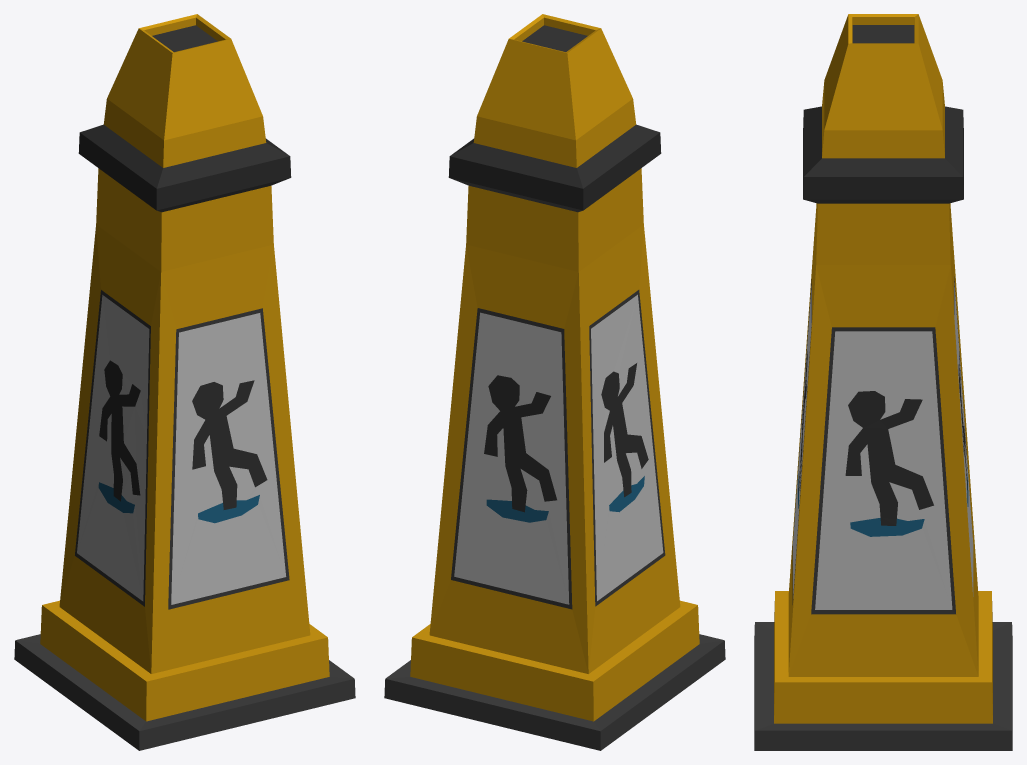
File: Wet Floor Sign Cone.fbx
3 views of the same model, side by side, from view 1: azimuth 30°, elevation 25°; view 2: azimuth 150°, elevation 25°; view 3: azimuth 270°, elevation 25° (orthographic). The views are drawn at different scales.
Parts seen in each view (by area): view 1: Wet Floor Sign Cone; view 2: Wet Floor Sign Cone; view 3: Wet Floor Sign Cone.
Part boxes in pixels (box(x1,y1,x2,y2)): Wet Floor Sign Cone: box(14, 14, 355, 750); Wet Floor Sign Cone: box(384, 14, 725, 750); Wet Floor Sign Cone: box(754, 14, 1012, 750).
Size of the model in its own units: 36.32 by 104 by 36.32.
Materials: 1 (1 with a texture image).
